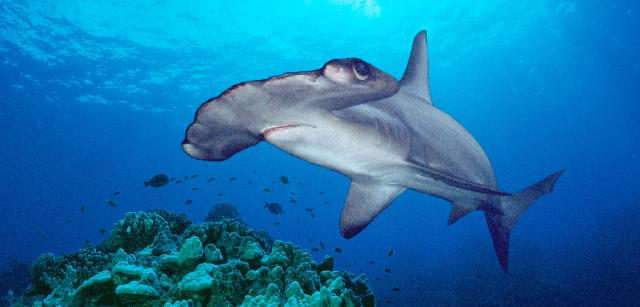Sirip Dada: (331, 158, 521, 242), (252, 116, 324, 154)
Sirip Ekor: (488, 163, 570, 281)
Sirip Perut: (440, 196, 506, 234)
Sirip Punggung: (390, 22, 446, 118)
